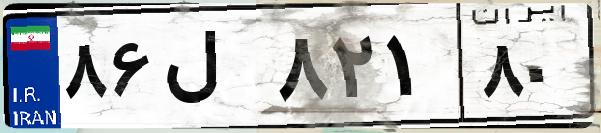0: (525, 38, 570, 115)
1: (385, 28, 445, 110)
2: (330, 28, 385, 110)
6: (110, 28, 158, 98)
8: (270, 28, 330, 110), (57, 26, 110, 100), (475, 38, 525, 113)
ل: (158, 20, 270, 120)
